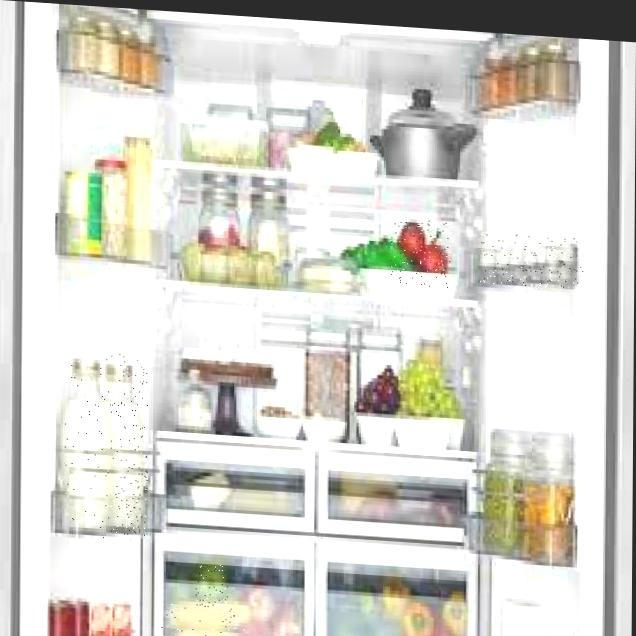apple: (390, 218, 451, 288), (195, 563, 228, 607)
banana: (160, 603, 246, 636)
eggs: (480, 231, 585, 290)
milk: (62, 361, 116, 540), (102, 353, 149, 536)
